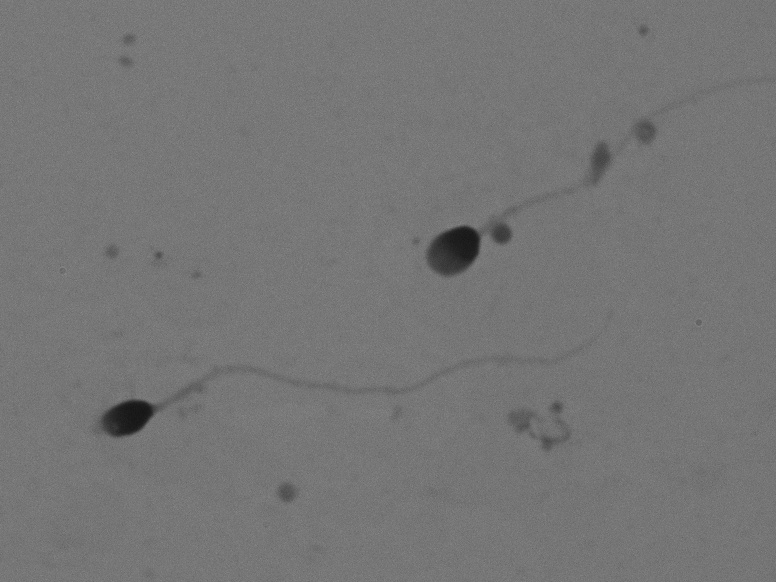Abnormal: (62, 295, 663, 478)
Normal: (360, 71, 769, 279)
